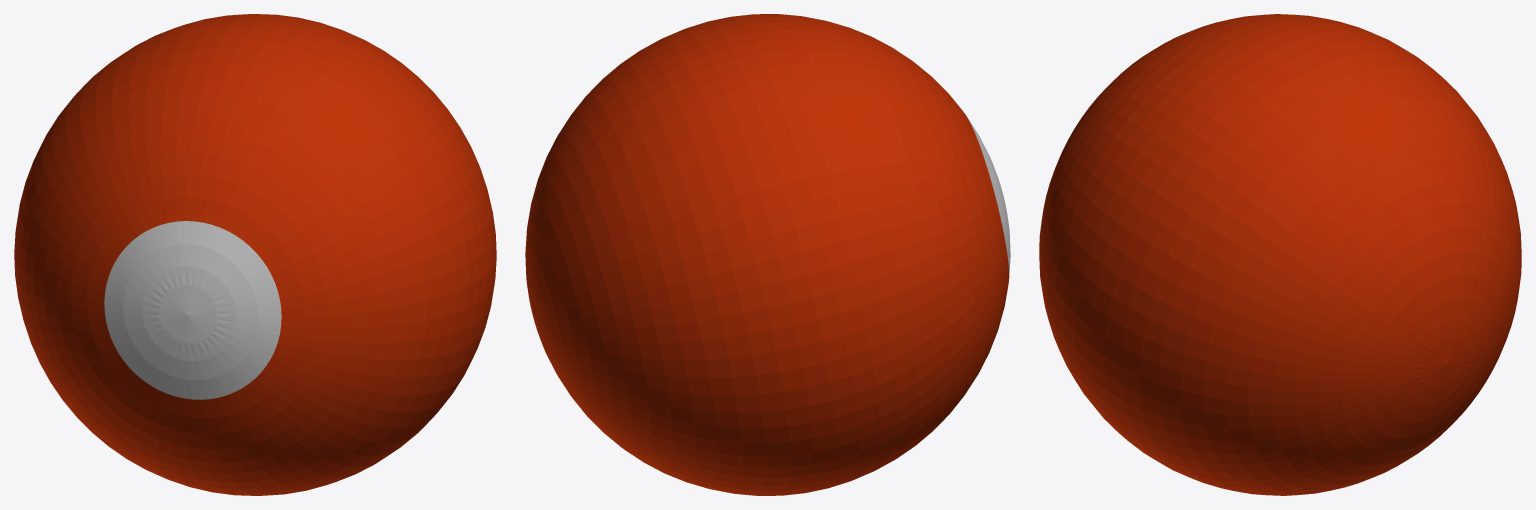
File: 5_ball.obj
3 renders of one model, left to right at view 1: azimuth 30°, elevation 25°; view 2: azimuth 150°, elevation 25°; view 3: azimuth 270°, elevation 25°, orthographic.
Visible parts, largest first — view 1: Solid.010; view 2: Solid.010; view 3: Solid.010.
Part boxes in pixels (x1,y1,x2,y2): Solid.010: (14, 14, 496, 495); Solid.010: (525, 14, 1010, 495); Solid.010: (1039, 14, 1521, 495).
Bounding box in the file's own units: 0.0788 × 0.0785 × 0.0788.
